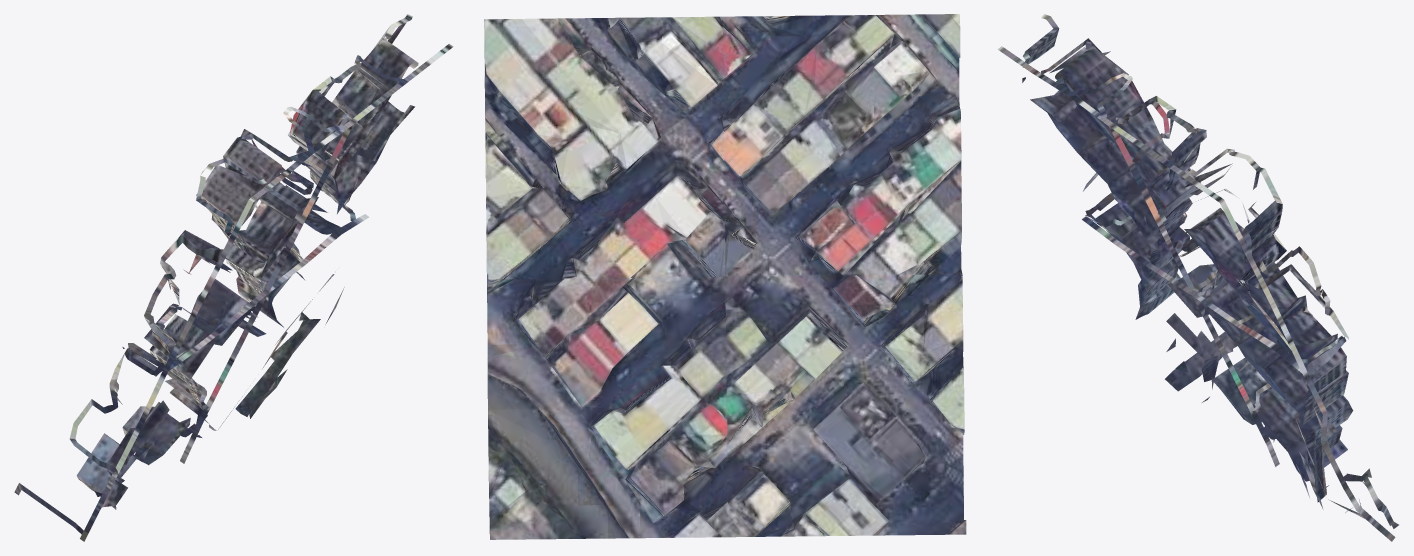
3 views of the same model, side by side, from view 1: azimuth 30°, elevation 25°; view 2: azimuth 150°, elevation 25°; view 3: azimuth 270°, elevation 25° (orthographic). The views are drawn at different scales.
Bounding box in the file's own units: 165 × 149 × 131.
1 material, 1 textured.
